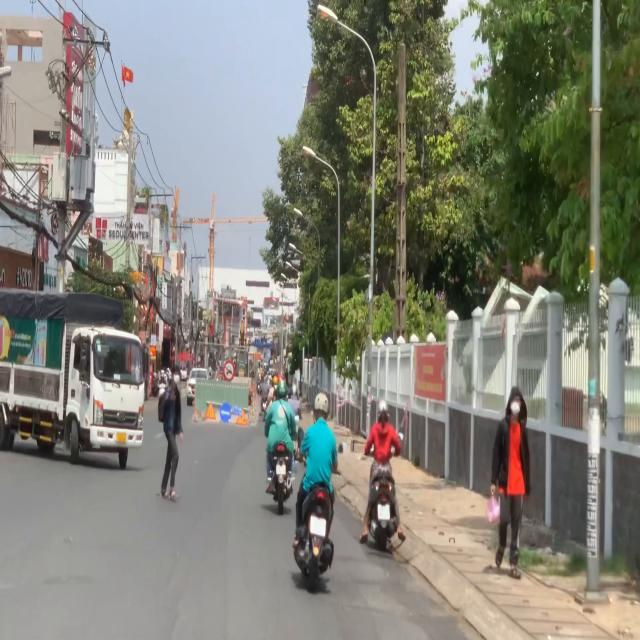Cam con lai: (223, 359, 235, 382)
Nguy hiem: (235, 407, 248, 426), (204, 401, 216, 421)
Re trai: (219, 402, 232, 423)
